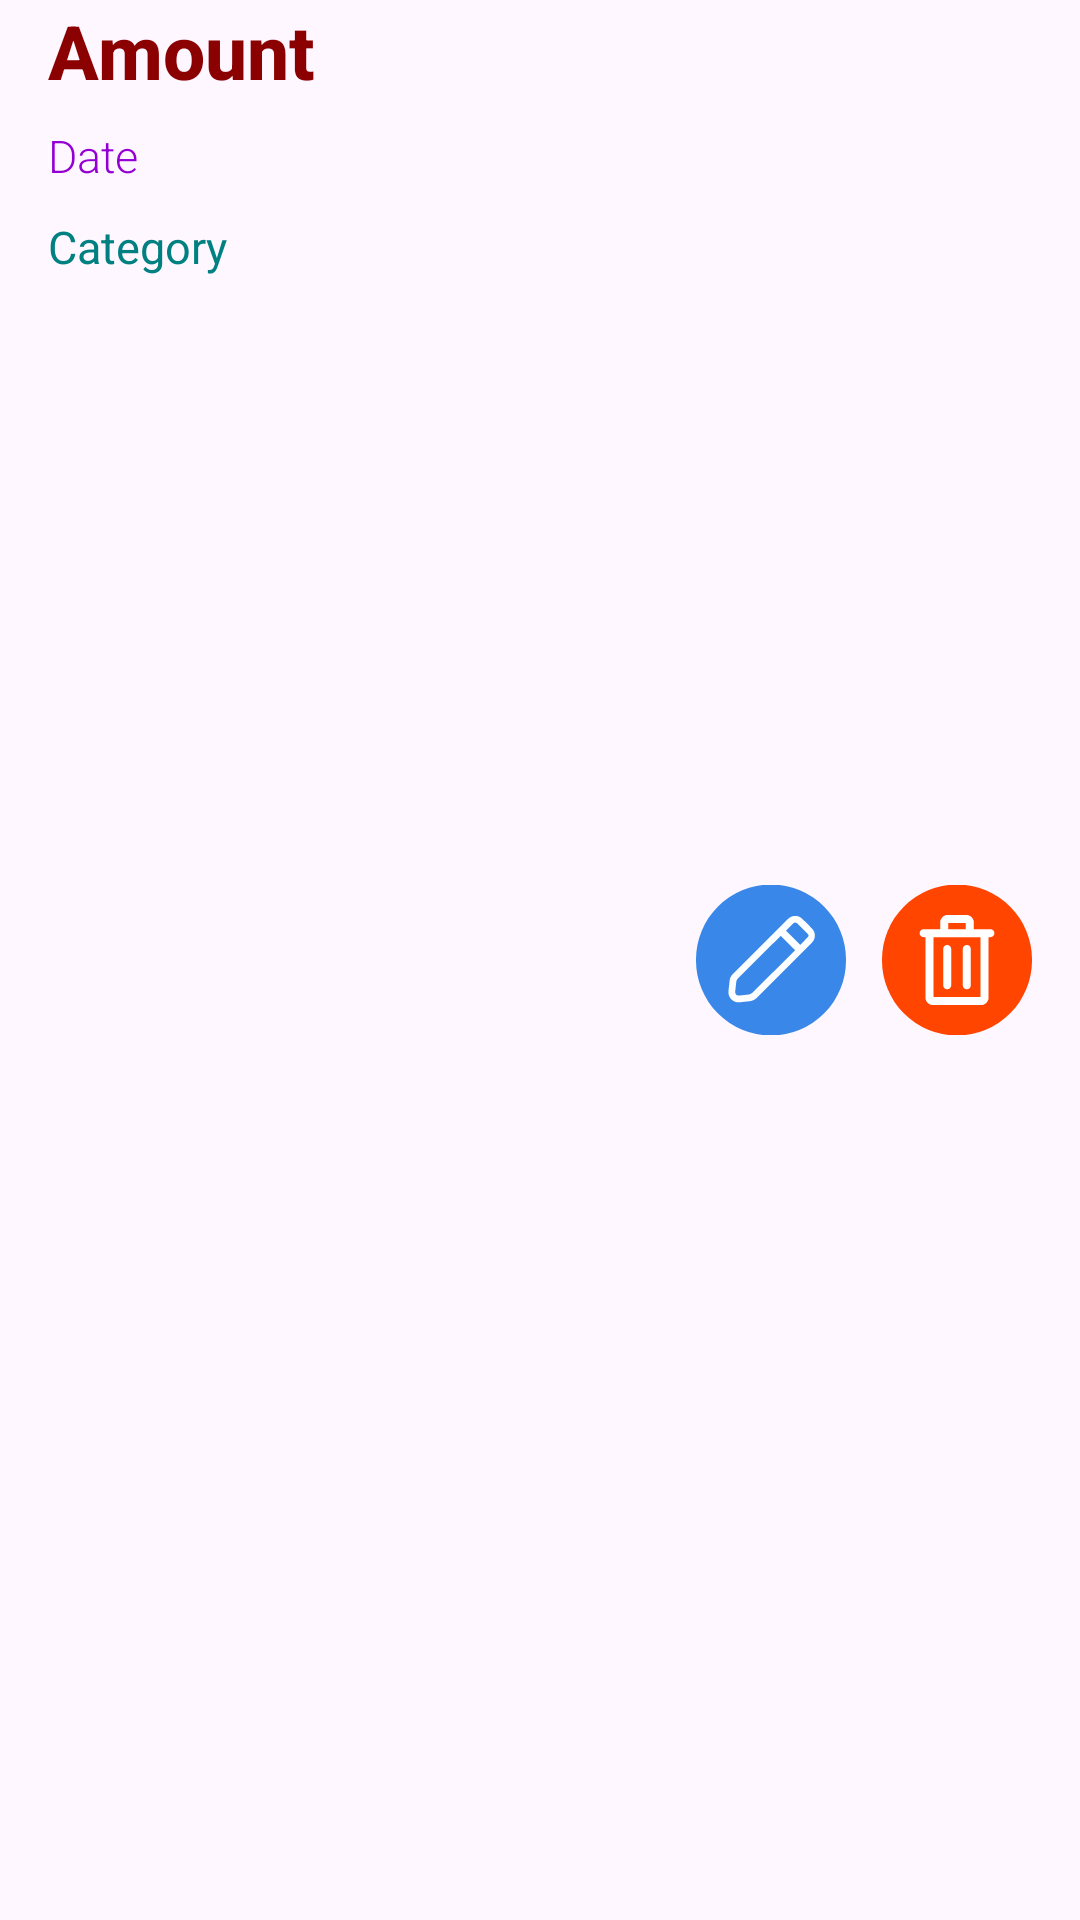

Icons on this 1080px x 1920px Android screen, each with its box as [left=x1, top=y1, right=x2, bottom=y2]:
ui delete: [left=882, top=885, right=1032, bottom=1035]
